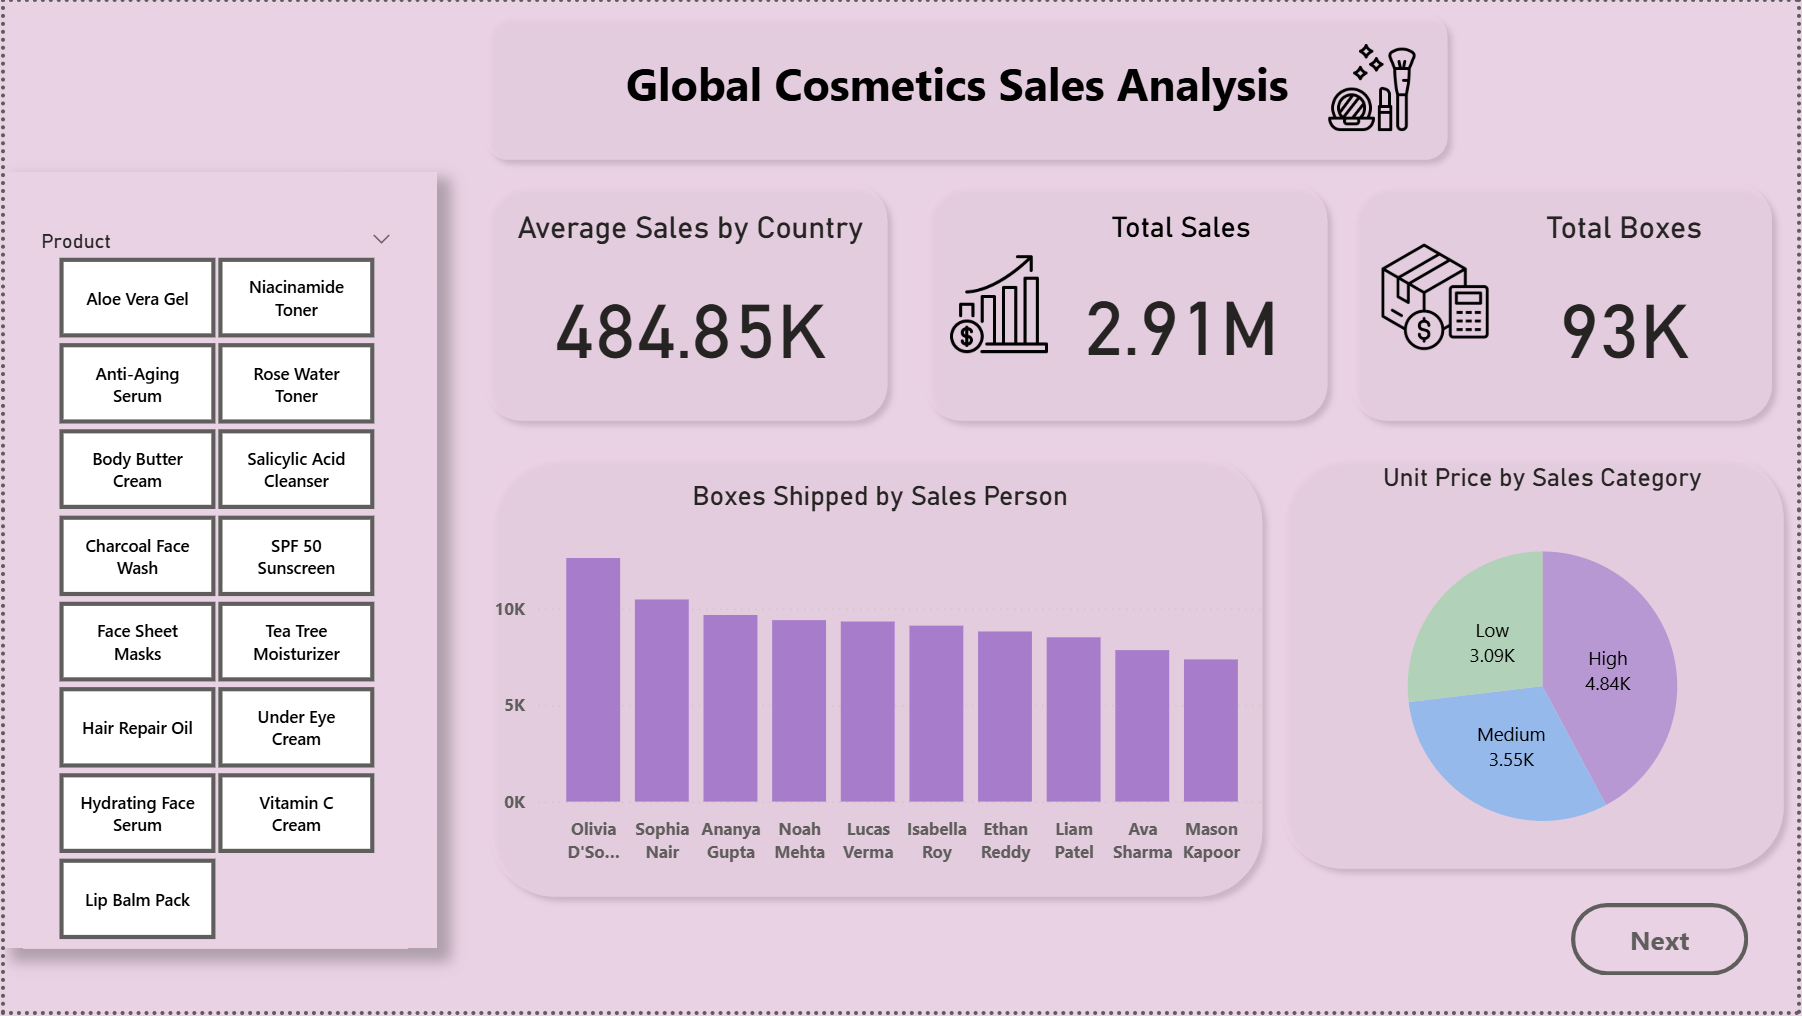

What the dashboard file says about the page in this screenshot:
{"tool":"powerbi","page":{"name":"Global Sales Overview","canvas":[1280,720],"ordinal":0},"visuals":[{"type":"shape","box":[0,121.7,308.3,553.3],"z":0},{"type":"shape","box":[336.7,315,570,331.7],"z":1000},{"type":"shape","box":[335,0,705,121.7],"z":2000},{"type":"shape","box":[953.3,121.7,318.3,186.7],"z":3000},{"type":"shape","box":[648.3,121.7,305,186.7],"z":4000},{"type":"shape","box":[903.3,315,376.7,311.7],"z":5000},{"type":"textbox","box":[438.3,31.7,495,58.3],"z":6000},{"type":"image","box":[936.7,23.3,78.3,76.7],"z":7000},{"type":"card","title":"Total Sales","fields":{"Values":["cosmetics_data.Total Sales"]},"box":[750,148.6,180,131.4],"z":8000},{"type":"card","title":"Total Boxes","fields":{"Values":["cosmetics_data.Total Boxes"]},"box":[1050,148.6,212.9,134.3],"z":9000},{"type":"pieChart","title":"Unit Price by Sales Category","fields":{"Category":["cosmetics_data.Sales Category"],"Y":["cosmetics_data.Unit Price"]},"box":[915,328.3,365,298.3],"z":10000},{"type":"columnChart","title":"Boxes Shipped by Sales Person","fields":{"Y":["cosmetics_data.Boxes Shipped"],"Category":["cosmetics_data.Sales Person"]},"box":[345,341.7,561.7,280],"z":11000},{"type":"slicer","fields":{"Values":["cosmetics_data.Product"]},"box":[13.3,156.7,275,518.3],"z":12000},{"type":"actionButton","box":[1118.3,643.3,126.7,51.7],"z":13000},{"type":"shape","box":[335,121.7,305,186.7],"z":14000},{"type":"card","title":"Average Sales by Country","fields":{"Values":["cosmetics_data.Average Sales by Region"]},"box":[353.3,148.3,273.3,135],"z":15000},{"type":"image","box":[670,172.9,80,85.7],"z":16000},{"type":"image","box":[975.7,162.9,91.4,95.7],"z":17000}]}

Visuals, with their boxes in screenshot pixels (x1, y1, x2, y2), scaled from the page's 1280x720 canvas onto the 1802x1016 screenshot:
shape: crop(0, 172, 434, 953)
shape: crop(474, 445, 1276, 913)
shape: crop(472, 0, 1464, 172)
shape: crop(1342, 172, 1790, 435)
shape: crop(913, 172, 1342, 435)
shape: crop(1272, 445, 1801, 884)
textbox: crop(617, 45, 1314, 127)
image: crop(1319, 33, 1429, 141)
"Total Sales" card: crop(1056, 210, 1309, 395)
"Total Boxes" card: crop(1478, 210, 1778, 399)
"Unit Price by Sales Category" pieChart: crop(1288, 463, 1801, 884)
"Boxes Shipped by Sales Person" columnChart: crop(486, 482, 1276, 877)
slicer - cosmetics_data.Product: crop(19, 221, 406, 953)
actionButton: crop(1574, 908, 1753, 981)
shape: crop(472, 172, 901, 435)
"Average Sales by Country" card: crop(497, 209, 882, 400)
image: crop(943, 244, 1056, 365)
image: crop(1374, 230, 1502, 365)
